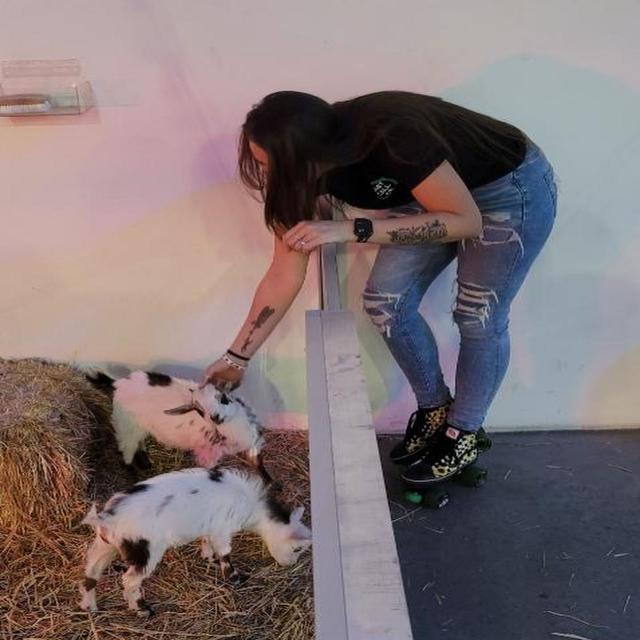goat: (82, 470, 354, 619), (74, 360, 303, 461)
